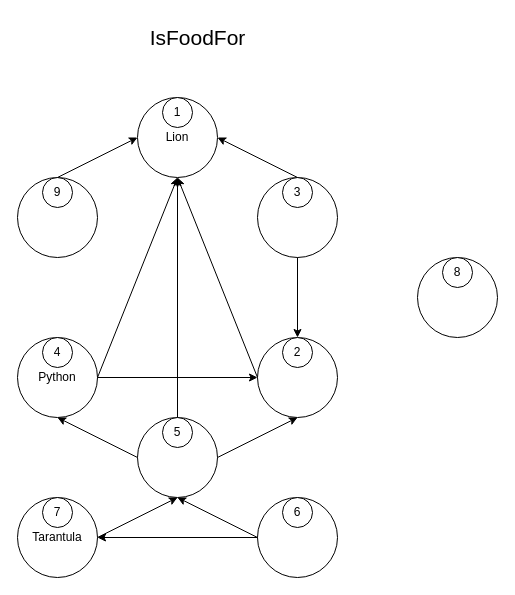
This 515x595 diagram has some shape labels left out. Here are the shapes that lost their labels. From the top down, the box of each, then its label:
(16, 176, 98, 258): Snail
(256, 176, 338, 258): Salmon
(416, 256, 498, 338): Lobster
(256, 336, 338, 418): Eagle
(136, 416, 218, 498): Frog
(256, 496, 338, 578): Butterfly
